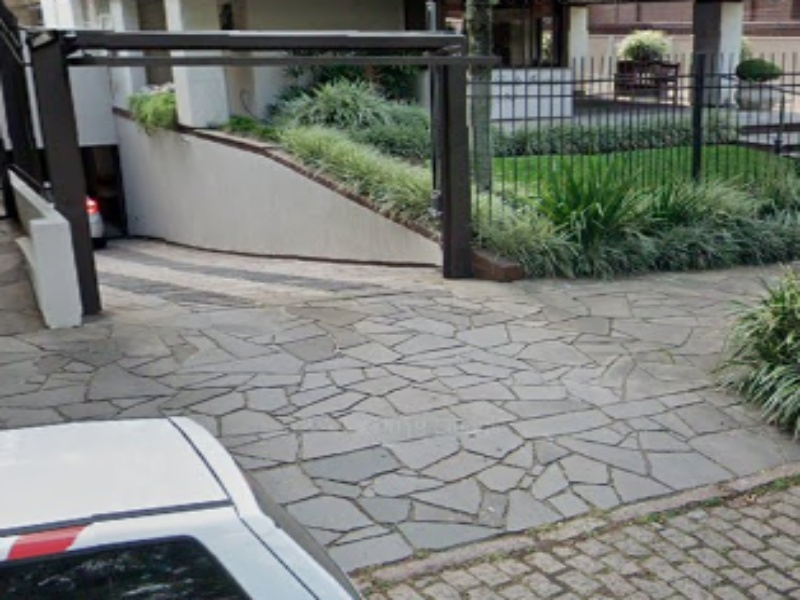g49: (358, 418, 793, 583)
